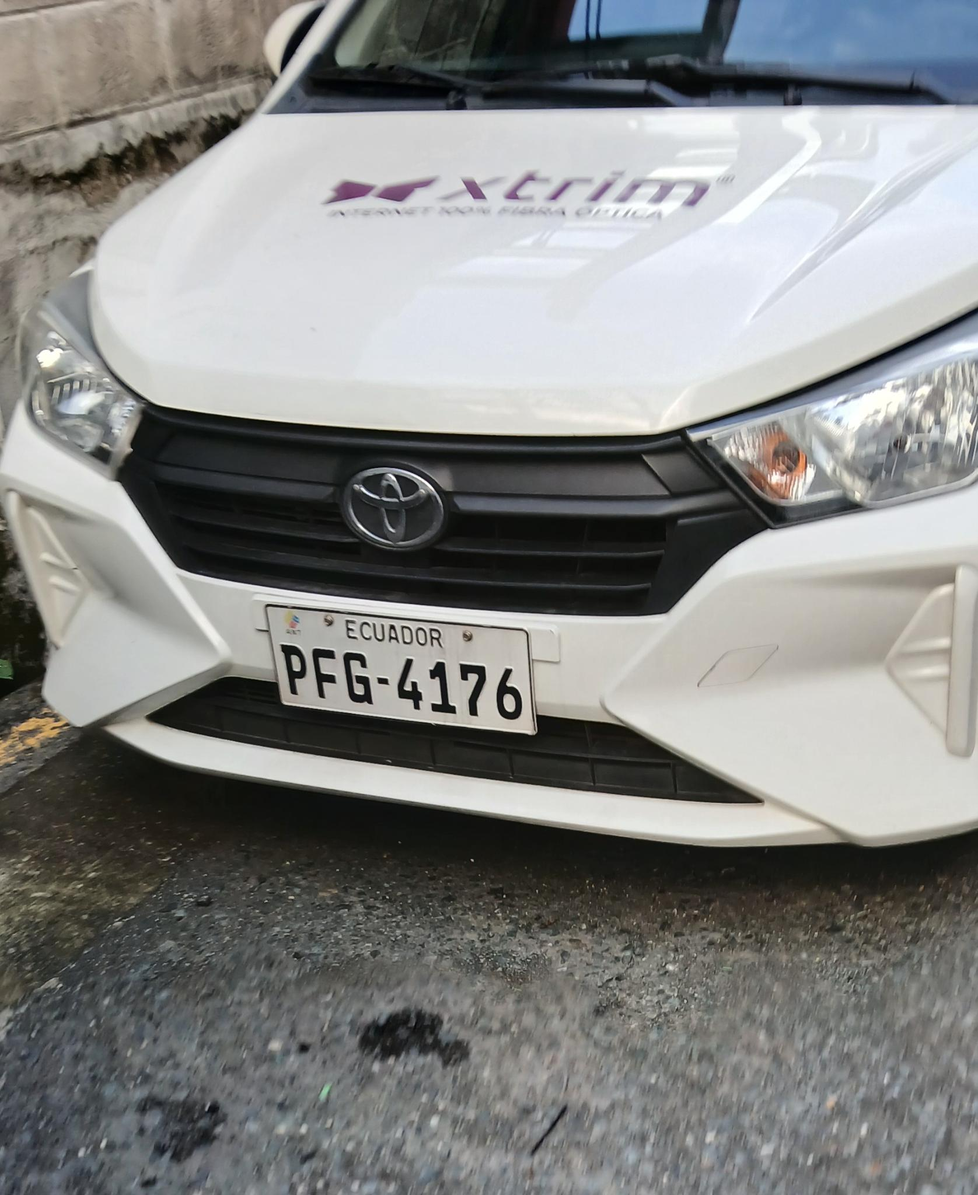license_plate: (264, 604, 544, 737)
